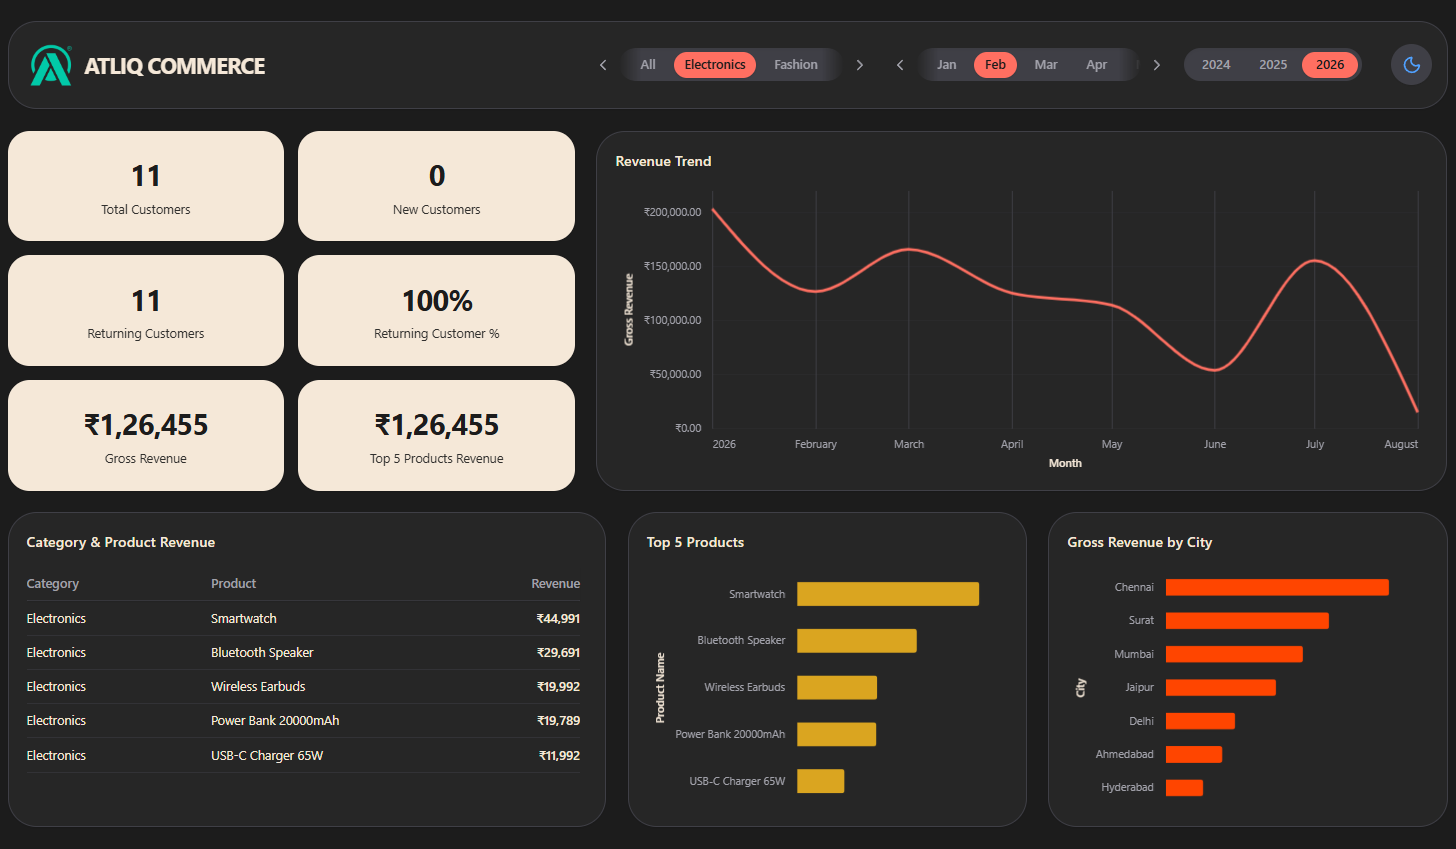

The page's visual inventory and layout, read from the dashboard file:
{"tool":"powerbi","page":{"name":"Dashboard","canvas":[1280,720],"ordinal":0},"visuals":[{"type":"group","id":"g1","title":"Group 1","box":[646.5,96.3,615.6,302.8],"z":0},{"type":"textbox","box":[86,30.4,195.1,43],"z":1000},{"type":"shape","box":[646.5,96.3,615.6,302.8],"z":1000,"group":"g1"},{"type":"shape","box":[506.3,407.9,434.2,300.3],"z":1000,"group":"g3"},{"type":"shape","box":[953,407.9,309.1,301.5],"z":1000,"group":"g2"},{"type":"lineChart","title":"Revenue Trend","fields":{"Category":["dim_date.year_month"],"Y":["Key_Measures.Gross Revenue"]},"box":[655.7,105.9,597.5,283],"z":2000,"group":"g1"},{"type":"shape","box":[20,407.9,479.2,300.3],"z":2000},{"type":"cardVisual","fields":{"Data":["Key_Measures.Total Customers","Key_Measures.New Customers","Key_Measures.Returning Customers","Key_Measures.Returning Customer %","Key_Measures.Gross Revenue","Key_Measures.Top 5 Products Revenue"]},"box":[20,96.3,616.9,302.8],"z":3000},{"type":"pivotTable","fields":{"Rows":["dim_product.category","dim_product.product_name"],"Values":["Key_Measures.Gross Revenue"]},"box":[27.1,416.7,456.7,282.8],"z":4000},{"type":"barChart","fields":{"Category":["dim_product.product_name"],"Y":["Key_Measures.Top 5 Products Revenue"]},"box":[520.5,417.9,405.8,282.8],"z":4000,"group":"g3"},{"type":"advancedSlicerVisual","fields":{"Values":["dim_date.year"]},"box":[882.1,7.5,384.1,80.1],"z":5000},{"type":"barChart","fields":{"Category":["dim_customer.city"],"Y":["Key_Measures.Gross Revenue"]},"box":[963.7,415.4,287.6,292.8],"z":5000,"group":"g2"},{"type":"advancedSlicerVisual","fields":{"Values":["dim_date.year_month"]},"box":[350.3,7.5,515.5,80.1],"z":6000},{"type":"group","id":"g2","title":"Group 2","box":[953,407.9,309.1,301.5],"z":7000},{"type":"group","id":"g3","title":"Group 3","box":[506.3,407.9,434.2,300.3],"z":8000},{"type":"image","box":[19.7,3.6,54.6,80.1],"z":9000}]}

Visuals, with their boxes on the page's 1280x720 design canvas (x1, y1, x2, y2). These are canvas units, not pixel positions in the 1456x849 screenshot, which may show the page scaled, cropped or inside an application window:
"Group 1" group: [x1=646, y1=96, x2=1262, y2=399]
textbox: [x1=86, y1=30, x2=281, y2=73]
shape: [x1=646, y1=96, x2=1262, y2=399]
shape: [x1=506, y1=408, x2=940, y2=708]
shape: [x1=953, y1=408, x2=1262, y2=709]
"Revenue Trend" lineChart: [x1=656, y1=106, x2=1253, y2=389]
shape: [x1=20, y1=408, x2=499, y2=708]
cardVisual - Key_Measures.Total Customers x Key_Measures.New Customers: [x1=20, y1=96, x2=637, y2=399]
pivotTable - dim_product.category x dim_product.product_name: [x1=27, y1=417, x2=484, y2=700]
barChart - dim_product.product_name x Key_Measures.Top 5 Products Revenue: [x1=520, y1=418, x2=926, y2=701]
advancedSlicerVisual - dim_date.year: [x1=882, y1=8, x2=1266, y2=88]
barChart - dim_customer.city x Key_Measures.Gross Revenue: [x1=964, y1=415, x2=1251, y2=708]
advancedSlicerVisual - dim_date.year_month: [x1=350, y1=8, x2=866, y2=88]
"Group 2" group: [x1=953, y1=408, x2=1262, y2=709]
"Group 3" group: [x1=506, y1=408, x2=940, y2=708]
image: [x1=20, y1=4, x2=74, y2=84]
